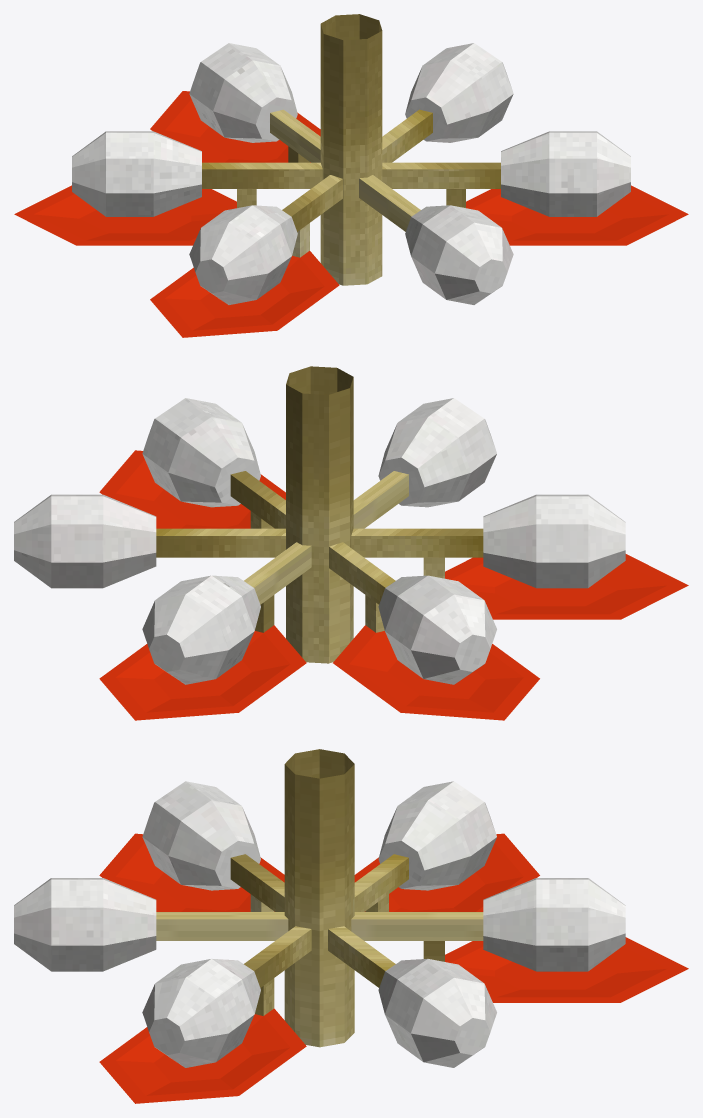
Rendered from Lustra (1).fbx.
3 views of the same model, one above another, from view 1: azimuth 30°, elevation 25°; view 2: azimuth 150°, elevation 25°; view 3: azimuth 270°, elevation 25° (orthographic). The views are drawn at different scales.
Visible parts, largest first — view 1: Bulb, LampBody, Plafon; view 2: Bulb, LampBody, Plafon; view 3: Bulb, LampBody, Plafon.
Boxes of the visible parts, x1=… form: Bulb: x1=72, y1=43, x2=630, y2=304; LampBody: x1=202, y1=14, x2=500, y2=285; Plafon: x1=14, y1=91, x2=688, y2=337; Bulb: x1=14, y1=398, x2=625, y2=684; LampBody: x1=156, y1=366, x2=483, y2=663; Plafon: x1=99, y1=450, x2=688, y2=720; Bulb: x1=14, y1=781, x2=625, y2=1067; LampBody: x1=156, y1=749, x2=483, y2=1047; Plafon: x1=99, y1=833, x2=688, y2=1103.
Bounding box in the file's own units: 71.77 × 33.27 × 75.76.
